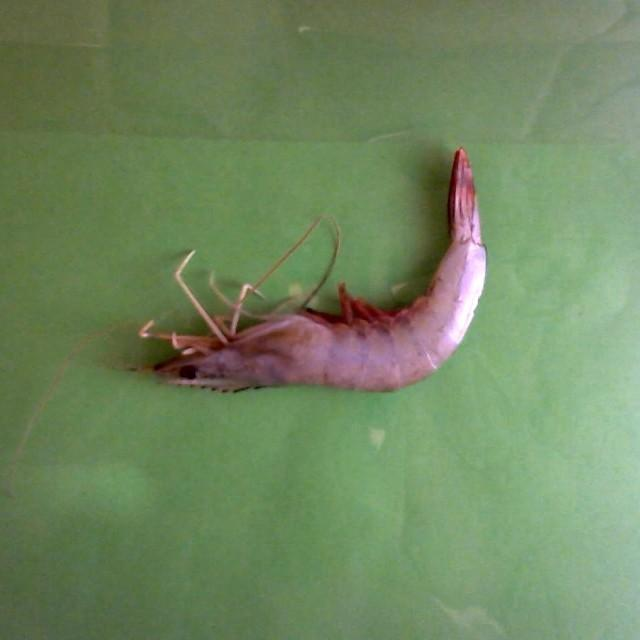shrimp: (153, 150, 487, 392)
